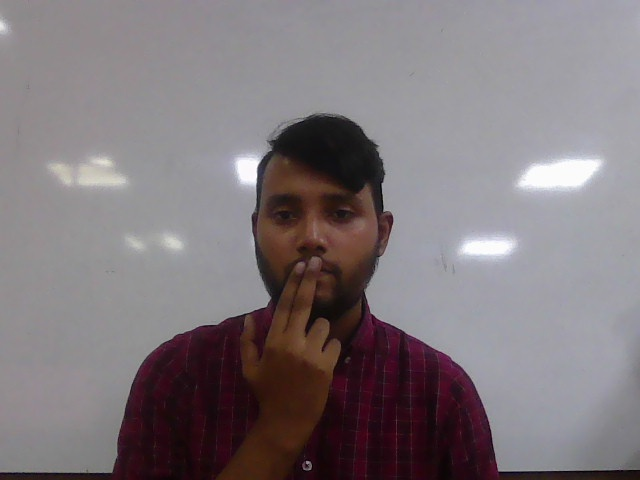Bak: (237, 255, 343, 420)
